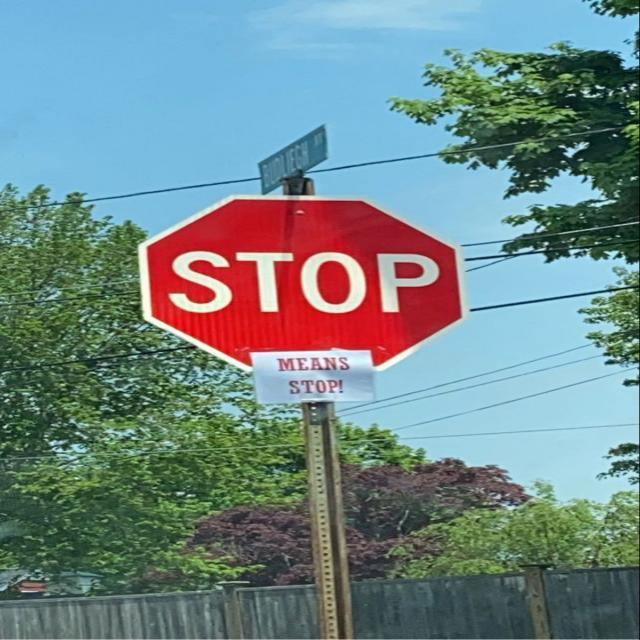stop: (136, 193, 467, 380)
